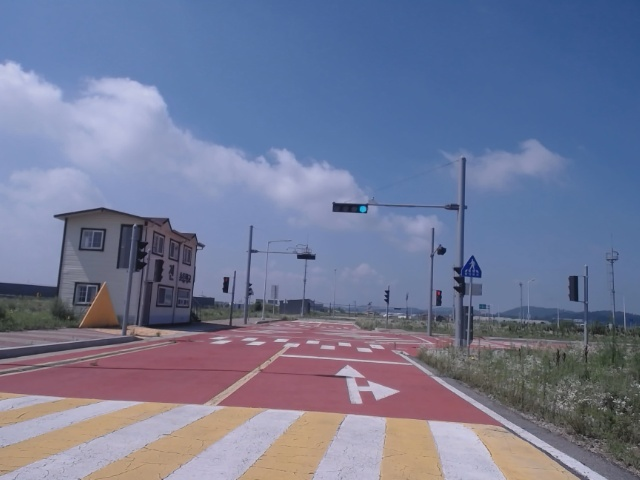straight_green_4: (332, 204, 368, 214)
